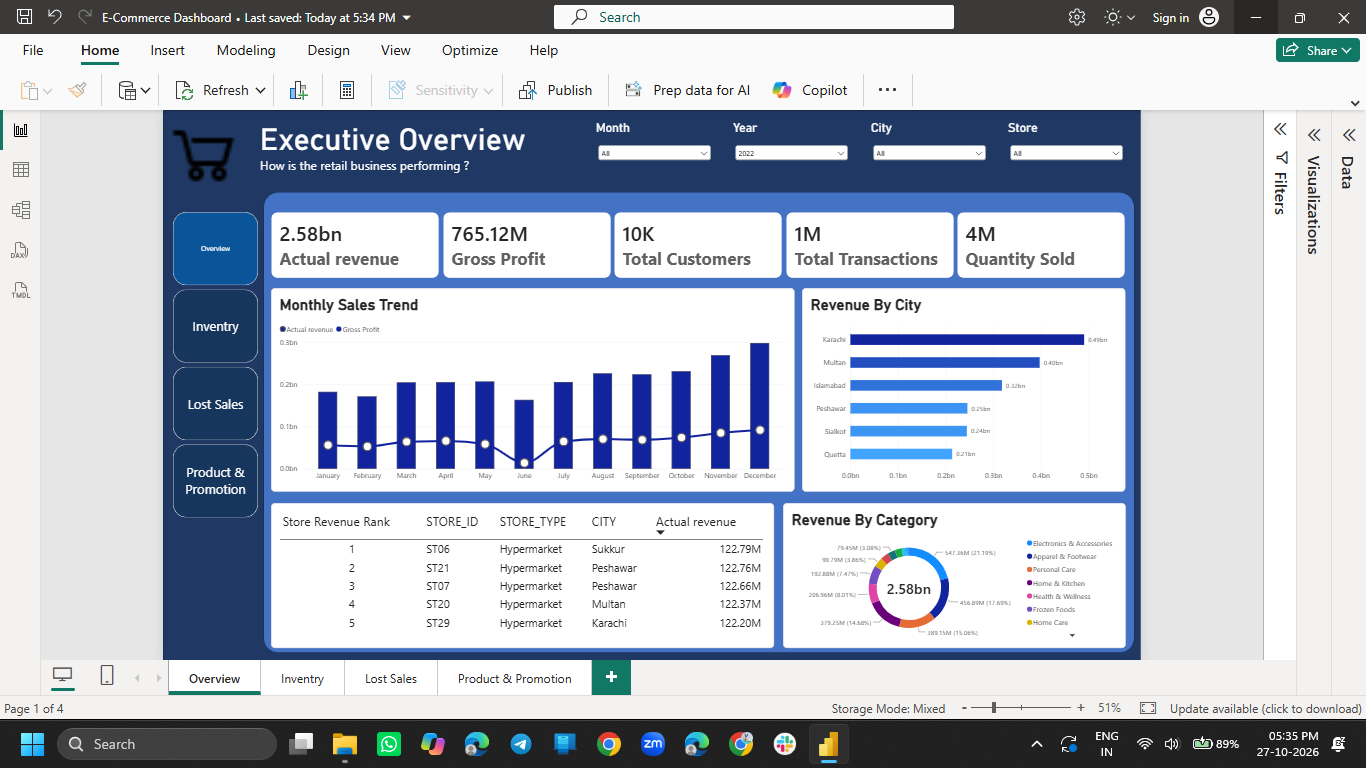

The page's visual inventory and layout, read from the dashboard file:
{"tool":"powerbi","page":{"name":"Overview","canvas":[1920,1080],"ordinal":0},"visuals":[{"type":"image","title":"Background","box":[0,0,1920,1080],"z":0,"group":"g1"},{"type":"cardVisual","title":"Total Sales","fields":{"Data":["SALES_TRANSACTIONS.Total Sales"]},"box":[212.5,200,330,130],"z":1000,"group":"g1"},{"type":"cardVisual","title":"Total Customers","fields":{"Data":["Count(CUSTOMER_MASTER.CUST_ID)"]},"box":[886.2,200,330,130],"z":2000,"group":"g1"},{"type":"cardVisual","fields":{"Data":["SALES_TRANSACTIONS.Gross Profit"]},"box":[549.4,200,330,130],"z":3000,"group":"g1"},{"type":"cardVisual","fields":{"Data":["SALES_TRANSACTIONS.Total Transactions"]},"box":[1223.1,200,330,130],"z":4000,"group":"g1"},{"type":"cardVisual","title":"Total Units Sold","fields":{"Data":["Sum(SALES_TRANSACTIONS.QUANTITY)"]},"box":[1560,200,330,130],"z":5000,"group":"g1"},{"type":"lineStackedColumnComboChart","title":"Monthly Sales Trend","fields":{"Category":["DimDate.Date.Variation.Date Hierarchy.Month"],"Y":["SALES_TRANSACTIONS.Total Sales"],"Y2":["SALES_TRANSACTIONS.Gross Profit"]},"box":[212.5,350,1027.5,400],"z":6000,"group":"g1"},{"type":"barChart","title":"Revenue By City","fields":{"Category":["STORE_MASTER.CITY"],"Y":["SALES_TRANSACTIONS.Total Sales"]},"box":[1255,350,635,400],"z":7000,"group":"g1"},{"type":"donutChart","title":"Revenue By Category","fields":{"Category":["DimSKU.CATEGORY"],"Y":["SALES_TRANSACTIONS.Total Sales"]},"box":[1217.5,772.5,672.5,285],"z":8000,"group":"g1"},{"type":"tableEx","fields":{"Values":["STORE_MASTER.Store Revenue Rank","STORE_MASTER.STORE_ID","STORE_MASTER.STORE_TYPE","STORE_MASTER.CITY","SALES_TRANSACTIONS.Total Sales"]},"box":[212.5,772.5,987.5,285],"z":9000,"group":"g1"},{"type":"shape","title":"Executive Overview","box":[190,22.5,590,107.5],"z":10000,"group":"g1"},{"type":"slicer","title":"Month","fields":{"Values":["DimDate.Month"]},"box":[850,22.5,230,107.5],"z":11000,"group":"g1"},{"type":"slicer","title":"Year","fields":{"Values":["DimDate.Year"]},"box":[1120,22.5,230,107.5],"z":12000,"group":"g1"},{"type":"slicer","title":"City","fields":{"Values":["STORE_MASTER.CITY"]},"box":[1390,22.5,230,107.5],"z":13000,"group":"g1"},{"type":"slicer","title":"Store","fields":{"Values":["STORE_MASTER.STORE_TYPE"]},"box":[1660,22.5,230,107.5],"z":14000,"group":"g1"},{"type":"image","box":[14,14,158,164],"z":15000,"group":"g1"},{"type":"pageNavigator","box":[20,200,167.5,602.5],"z":16000,"group":"g1"},{"type":"group","id":"g1","title":"Group 1","box":[0,0,1920,1080],"z":16001}]}

Visuals, with their boxes on the page's 1920x1080 design canvas (x1, y1, x2, y2). These are canvas units, not pixel positions in the 1366x768 screenshot, which may show the page scaled, cropped or inside an application window:
"Background" image: <box>0,0,1920,1080</box>
"Total Sales" cardVisual: <box>212,200,542,330</box>
"Total Customers" cardVisual: <box>886,200,1216,330</box>
cardVisual - SALES_TRANSACTIONS.Gross Profit: <box>549,200,879,330</box>
cardVisual - SALES_TRANSACTIONS.Total Transactions: <box>1223,200,1553,330</box>
"Total Units Sold" cardVisual: <box>1560,200,1890,330</box>
"Monthly Sales Trend" lineStackedColumnComboChart: <box>212,350,1240,750</box>
"Revenue By City" barChart: <box>1255,350,1890,750</box>
"Revenue By Category" donutChart: <box>1218,772,1890,1058</box>
tableEx - STORE_MASTER.Store Revenue Rank x STORE_MASTER.STORE_ID: <box>212,772,1200,1058</box>
"Executive Overview" shape: <box>190,22,780,130</box>
"Month" slicer: <box>850,22,1080,130</box>
"Year" slicer: <box>1120,22,1350,130</box>
"City" slicer: <box>1390,22,1620,130</box>
"Store" slicer: <box>1660,22,1890,130</box>
image: <box>14,14,172,178</box>
pageNavigator: <box>20,200,188,802</box>
"Group 1" group: <box>0,0,1920,1080</box>
